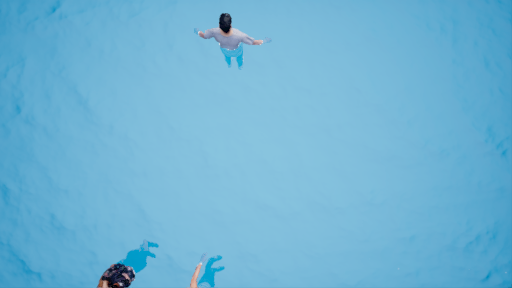person: (191, 9, 277, 85), (87, 222, 155, 288), (181, 247, 229, 288)
